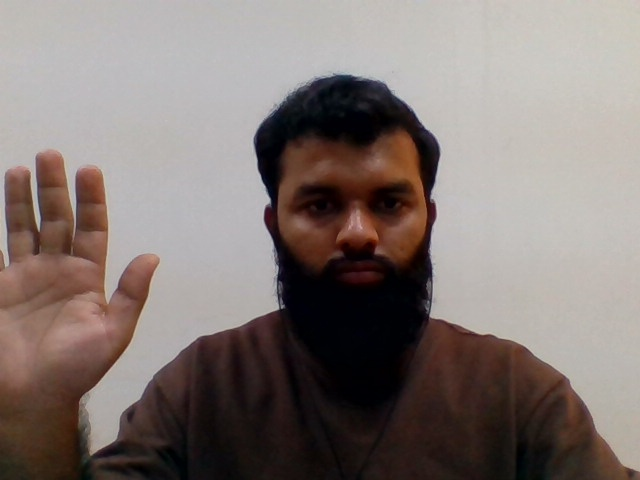Hello: (1, 140, 173, 416)
